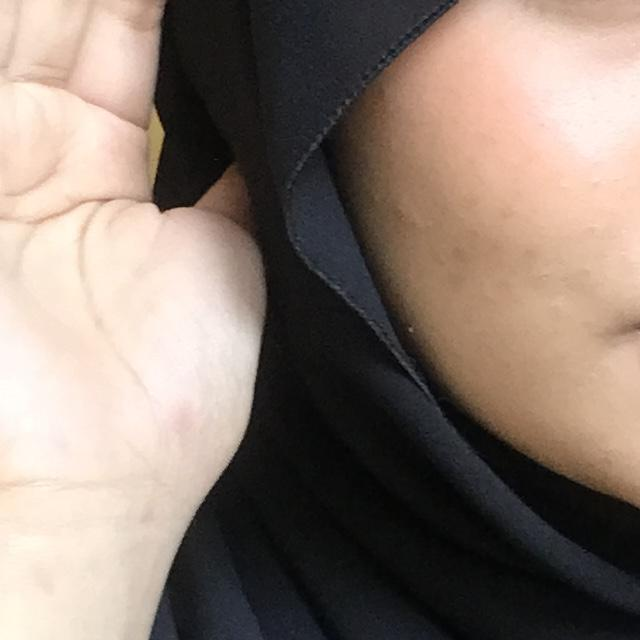mendengar: (0, 0, 320, 576)
